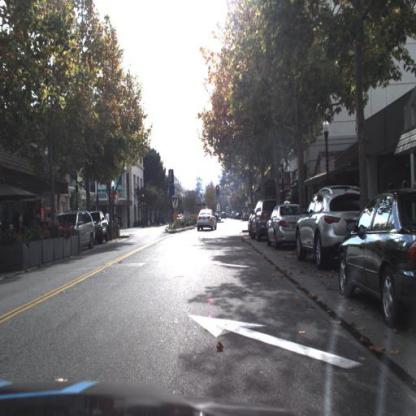car: (340, 191, 416, 329), (294, 181, 360, 273), (50, 210, 97, 254), (269, 202, 303, 251), (250, 199, 277, 240), (190, 208, 214, 238), (92, 210, 110, 246)
trafficLight-Red: (216, 186, 222, 200)
